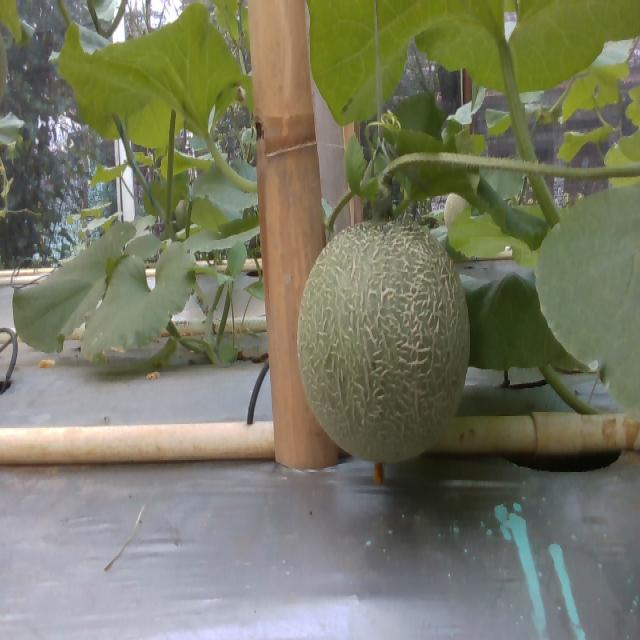melon: (299, 221, 470, 462)
